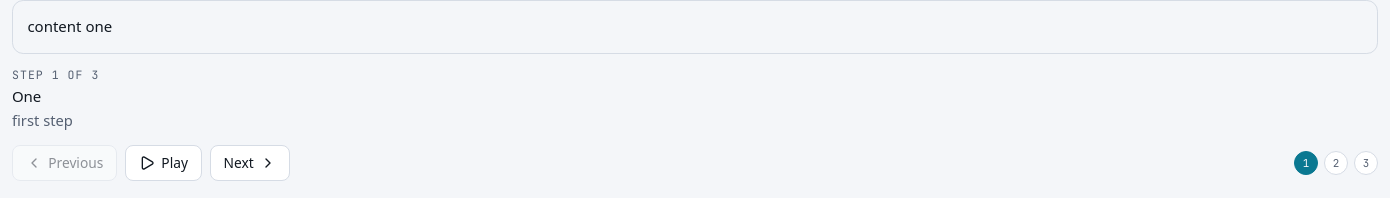
Test: Stepper › restarts from the beginning when played on the last step
The width and height of the screenshot is (1390, 198).
Click the button named "Step 3: Three".
click(1366, 163)  # box [1354,151,1378,175]
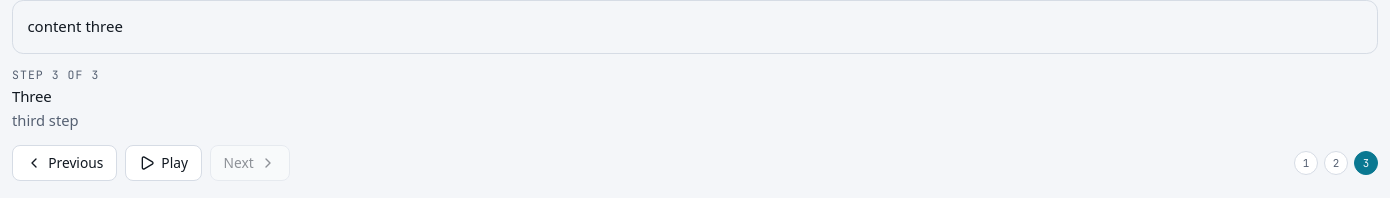
Click the button "Play".
click(163, 163)  # box [125,145,202,181]
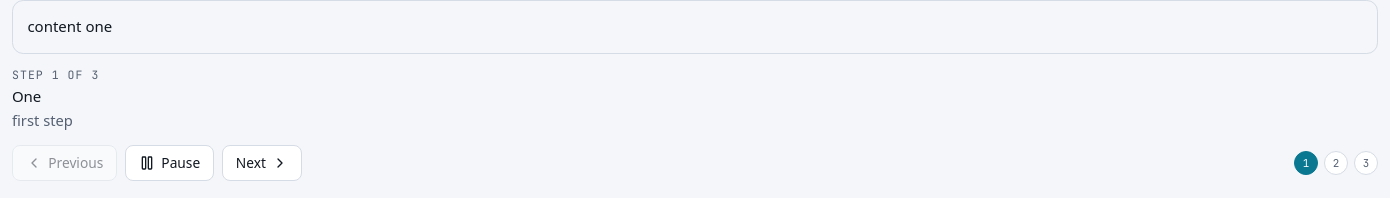
Check: the text "Step 1 of 3" is shown, box [12,67,99,82]
Check: the button "Pause" is shown, box [125,145,214,181]
